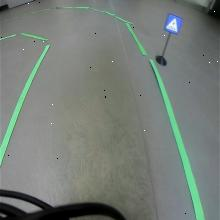crosswalk: (164, 13, 182, 36)
